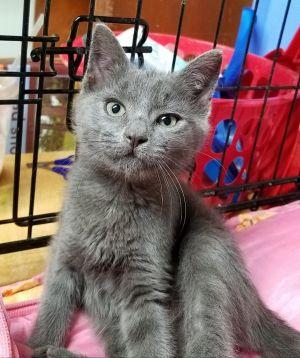rblue: (58, 13, 236, 200)
